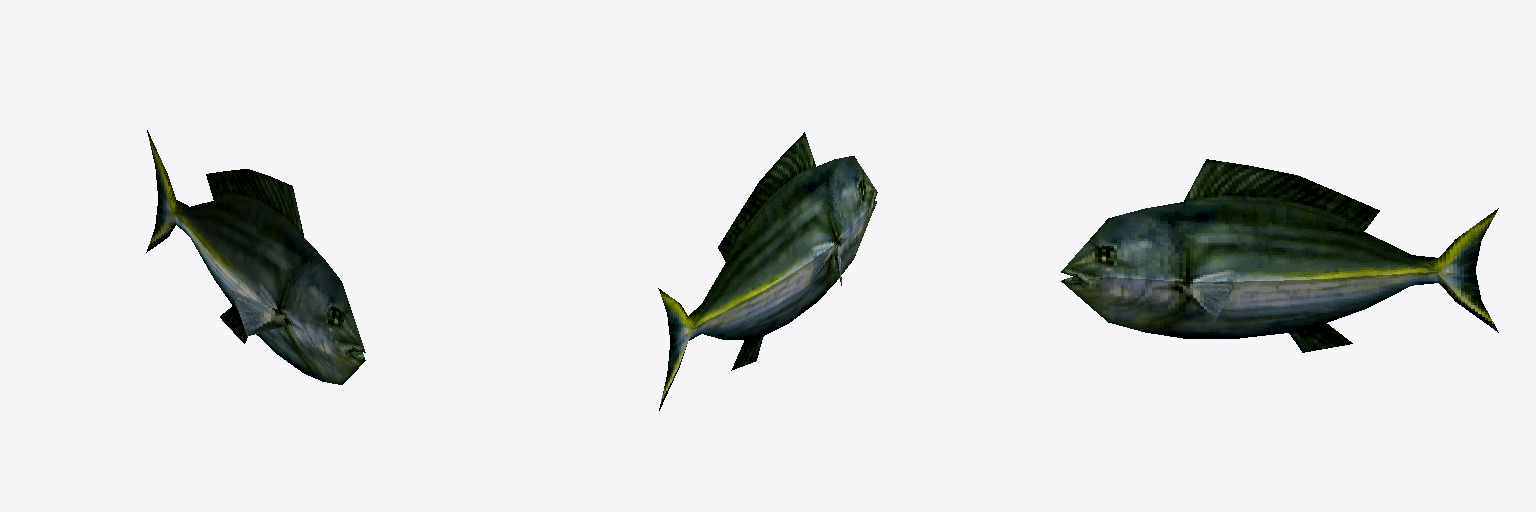
3 views of the same model, side by side, from view 1: azimuth 30°, elevation 25°; view 2: azimuth 150°, elevation 25°; view 3: azimuth 270°, elevation 25° (orthographic).
Parts seen in each view (by area): view 1: TMD_object_#0,_VRAM_page_#26; view 2: TMD_object_#0,_VRAM_page_#26; view 3: TMD_object_#0,_VRAM_page_#26.
Boxes of the visible parts, <box> form: TMD_object_#0,_VRAM_page_#26: <box>146,130,365,384</box>; TMD_object_#0,_VRAM_page_#26: <box>658,132,877,410</box>; TMD_object_#0,_VRAM_page_#26: <box>1061,159,1498,352</box>.
Bounding box in the file's own units: 6.65 × 13.03 × 26.74.
Materials: 1 (1 with a texture image).